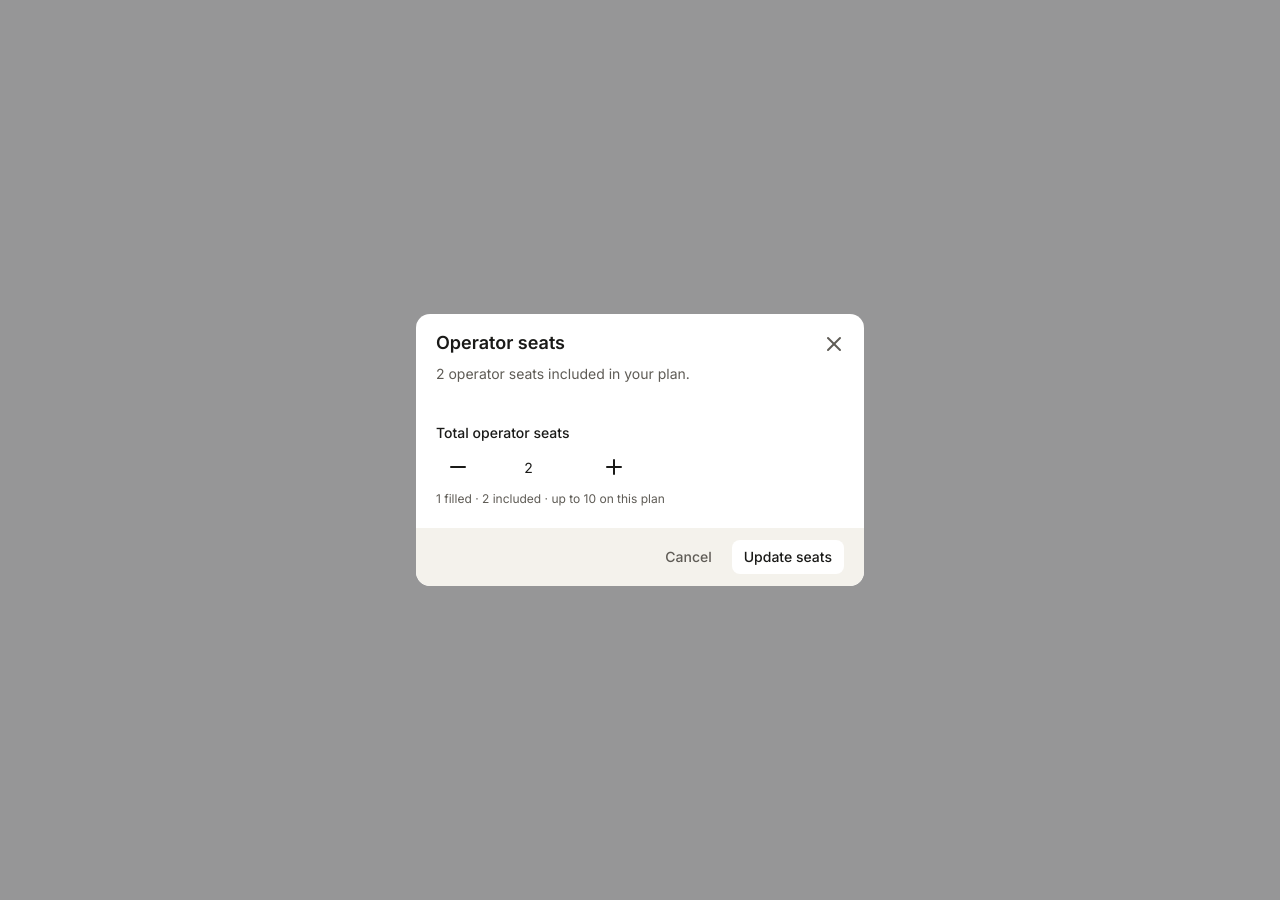
Scenario: the price it quotes › refuses to start a purchase it could not price
This screenshot has width=1280, height=900.
Replace the text in the number field with "3" at {"x": 536, "y": 467}, box [488,450,584,484]
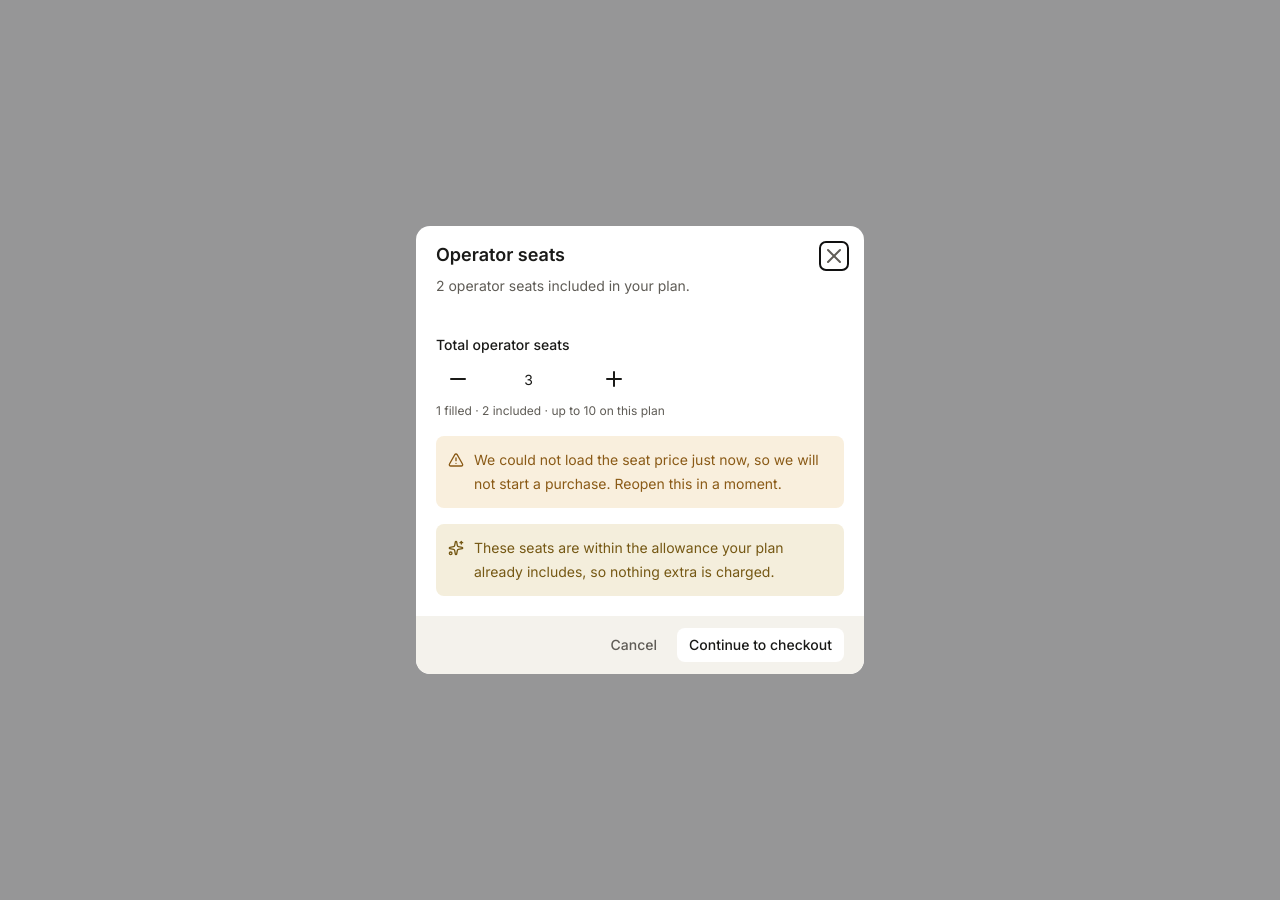
Check: the button "Continue to checkout" is disabled, box [677,628,844,662]
Check: the text "could not load the seat price" is shown, box [474,451,819,492]
